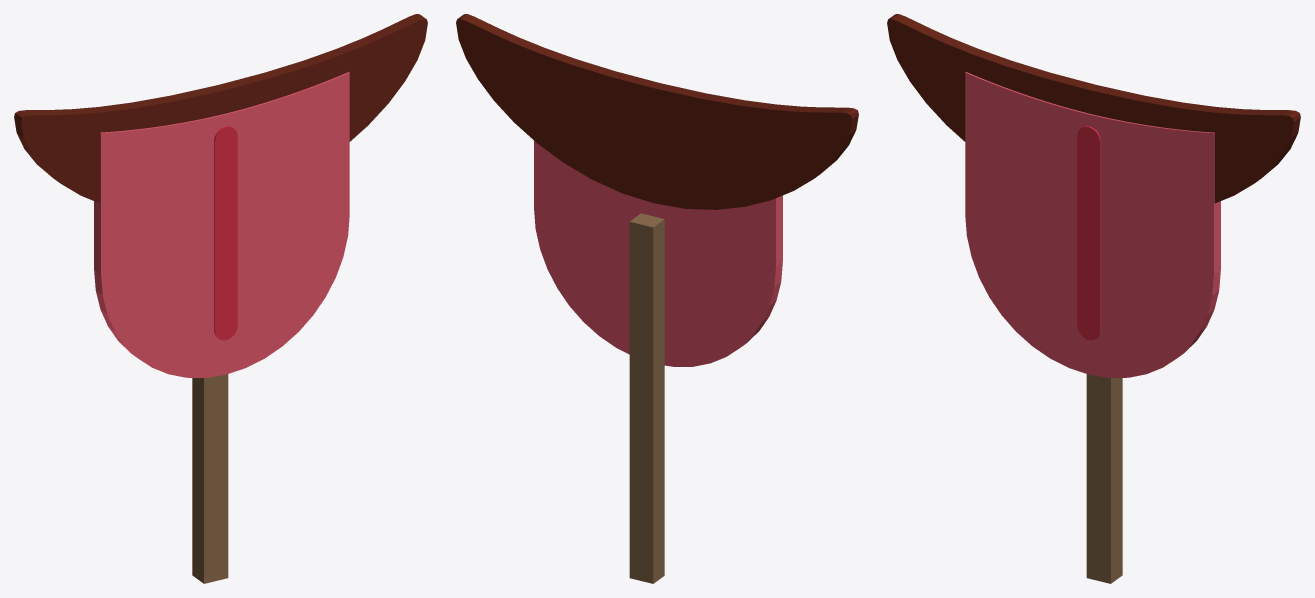
File: langue.glb
3 views of the same model, side by side, from view 1: azimuth 30°, elevation 25°; view 2: azimuth 150°, elevation 25°; view 3: azimuth 330°, elevation 25° (orthographic). The views are drawn at different scales.
Size of the model in its own units: 1 by 1.22 by 0.093.
